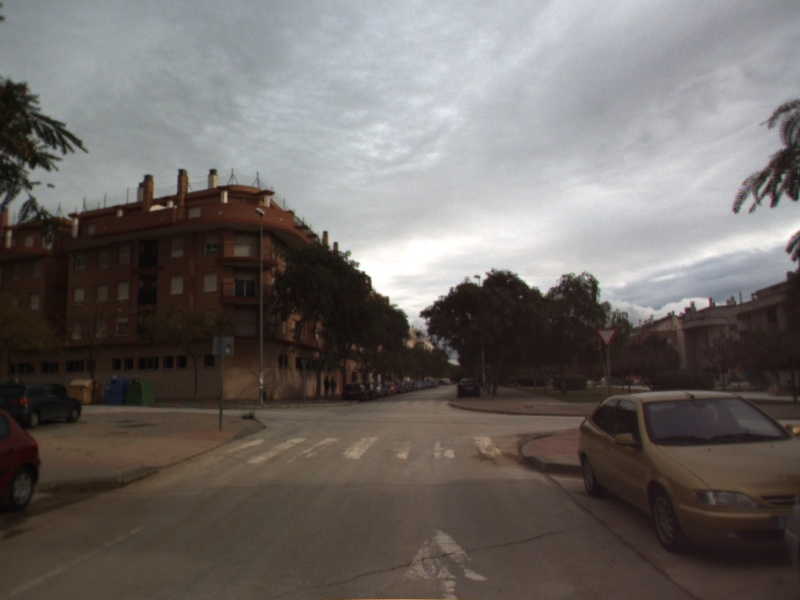STRAIGHT: (397, 519, 493, 600)
